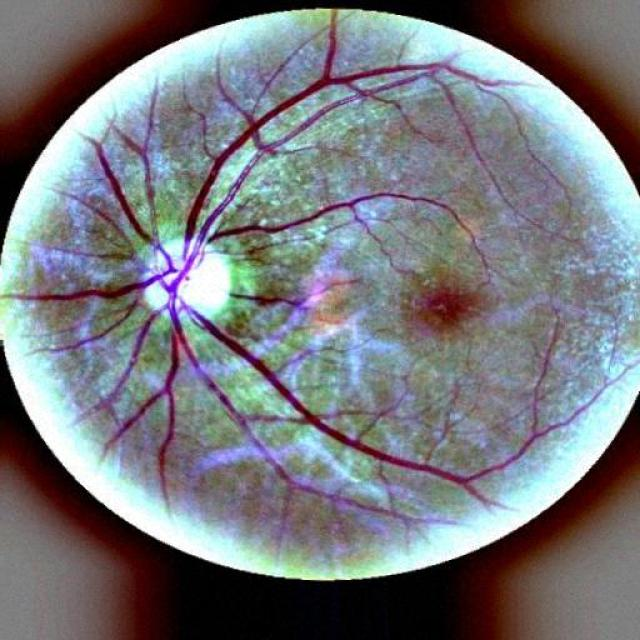Macula: (418, 269, 489, 344)
Nerves: (172, 71, 485, 489), (179, 62, 472, 263), (105, 314, 297, 487)
Optic Disk: (145, 239, 234, 321)
